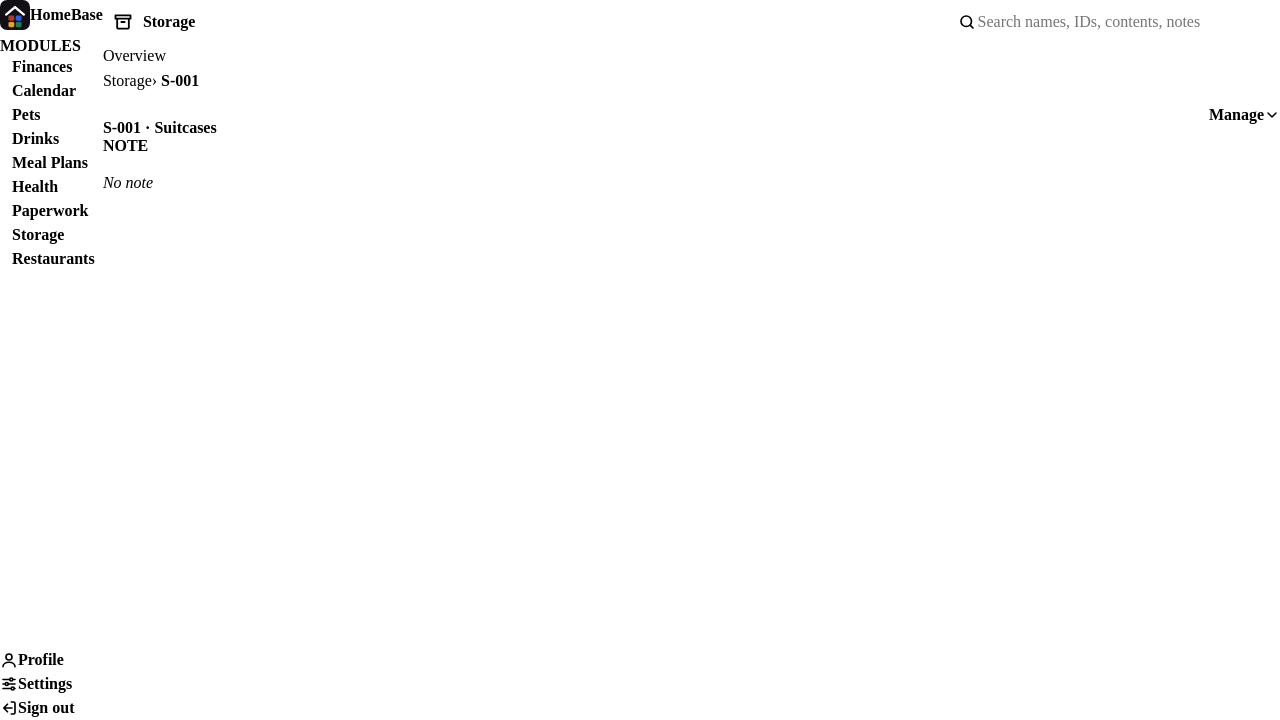
it: a Storage entry (REQ-107, REQ-98) › asks before removing, and Keep it closes the question
Click the button "Manage".
click(1244, 115)  # box top-left (1209, 93), bottom-right (1279, 137)
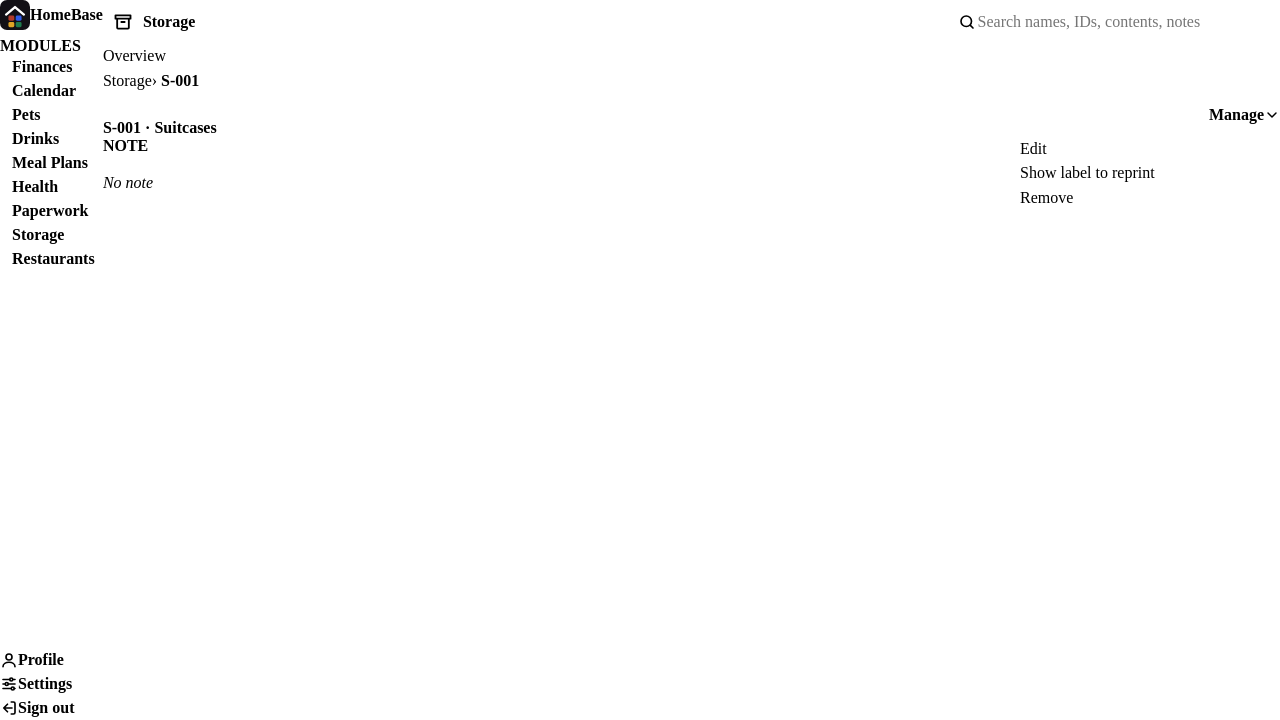
Click the button "Remove".
click(1047, 198)  # box top-left (1020, 186), bottom-right (1279, 210)
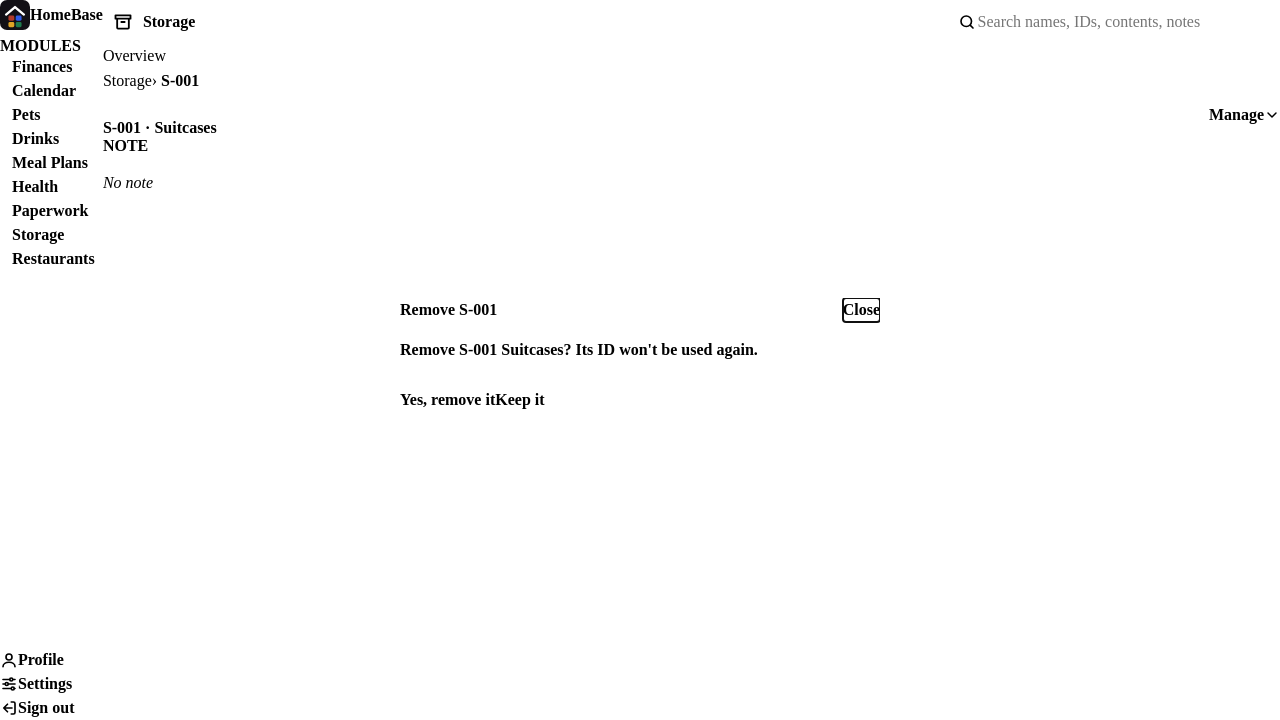
Result: the dialog "Remove S-001" shows "Remove S-001 Suitcases?" at top-left (400, 298), bottom-right (880, 422)
Result: the button "Yes, remove it" is shown at top-left (400, 378), bottom-right (495, 422)
Click the button "Keep it".
click(520, 400)  # box top-left (495, 378), bottom-right (544, 422)
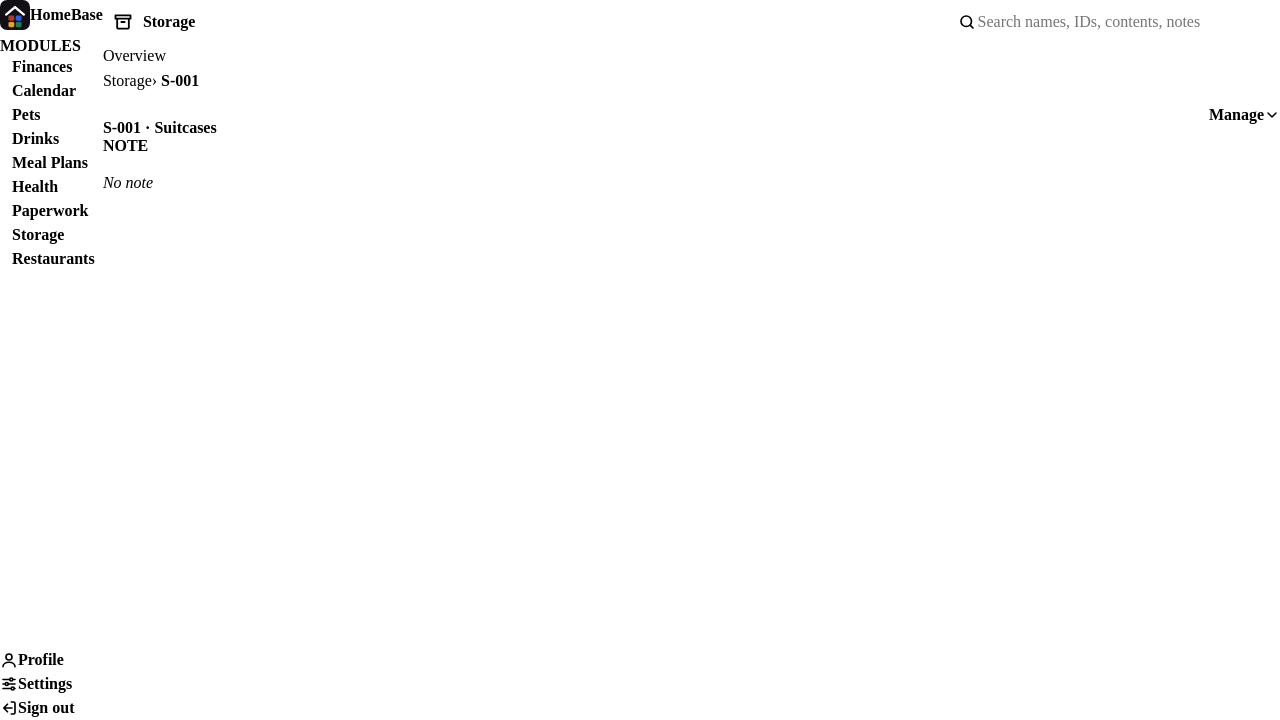
Result: the heading "Remove S-001" is gone
